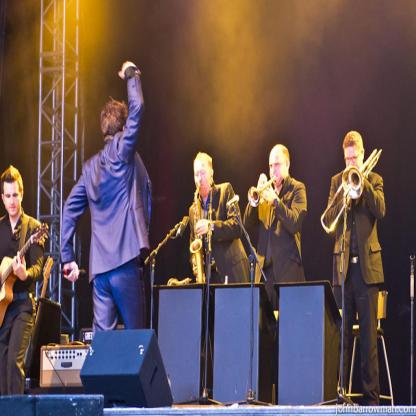face: (270, 147, 286, 185), (195, 160, 211, 196), (5, 183, 21, 217), (346, 147, 362, 175)
